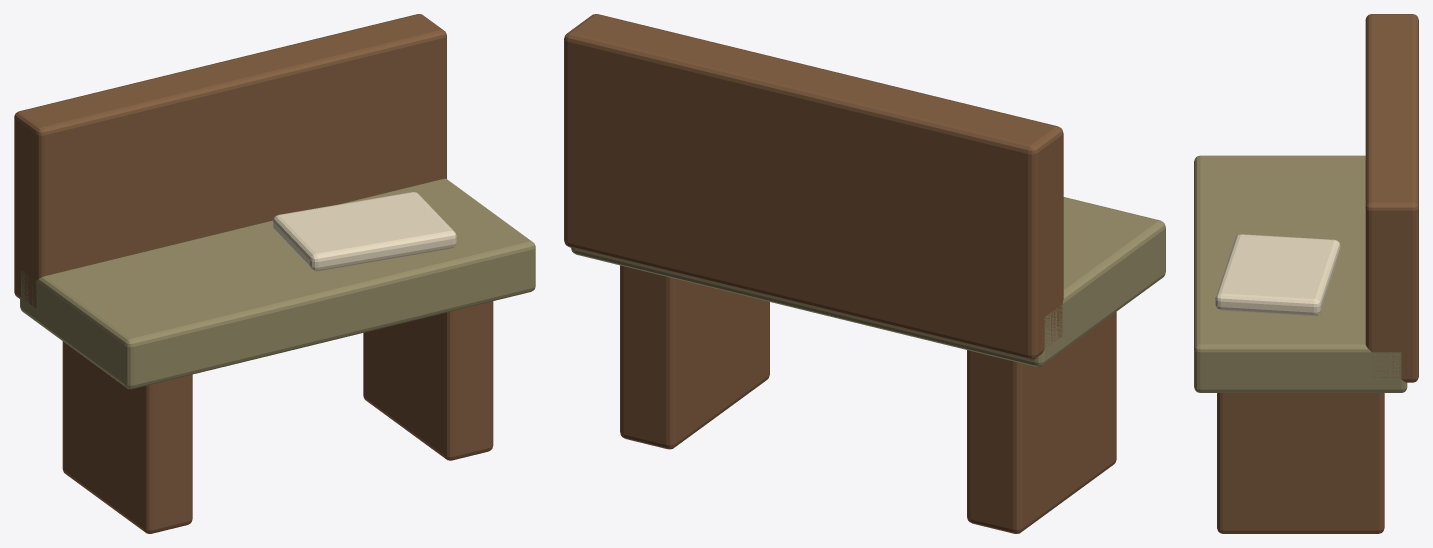
Rendered from woodland-reading-bench-01--mossy.glb.
3 renders of one model, left to right at view 1: azimuth 30°, elevation 25°; view 2: azimuth 150°, elevation 25°; view 3: azimuth 270°, elevation 25°, orthographic. The views are drawn at different scales.
Visible parts, largest first — view 1: woodland-reading-bench-01--mossy; view 2: woodland-reading-bench-01--mossy; view 3: woodland-reading-bench-01--mossy.
Boxes of the visible parts, left/top/right/bottom form: woodland-reading-bench-01--mossy: left=14, top=14, right=535, bottom=533; woodland-reading-bench-01--mossy: left=564, top=14, right=1165, bottom=533; woodland-reading-bench-01--mossy: left=1194, top=14, right=1418, bottom=533.
Size of the model in its own units: 0.3 by 0.25 by 0.1475.
